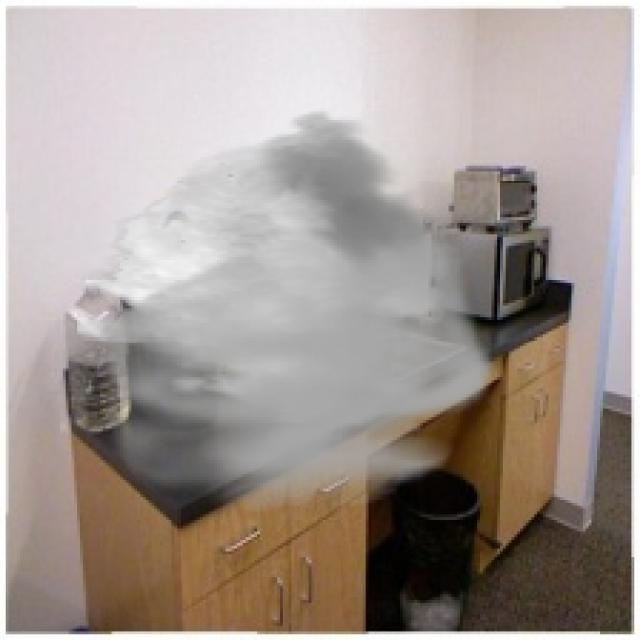smoke: (77, 109, 500, 512)
